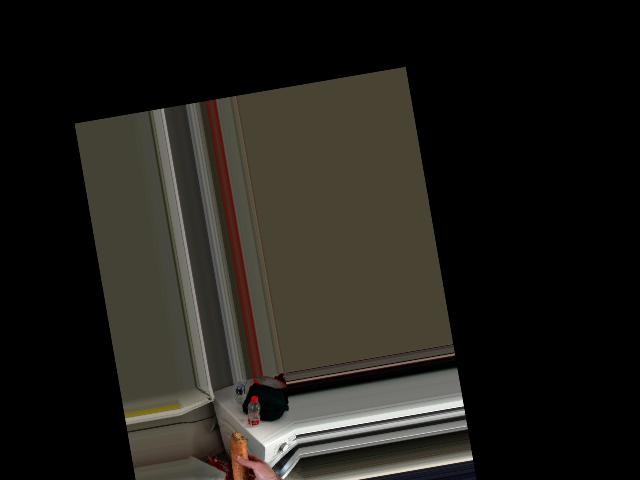sweet_potato: (225, 428, 257, 480)
